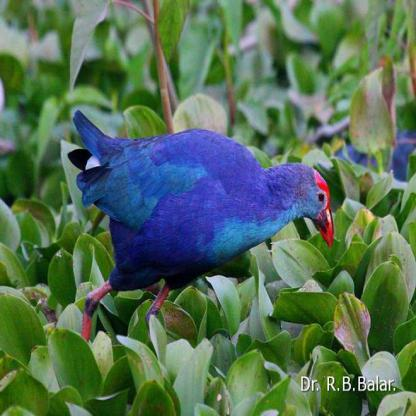Burung: (75, 108, 332, 341)
